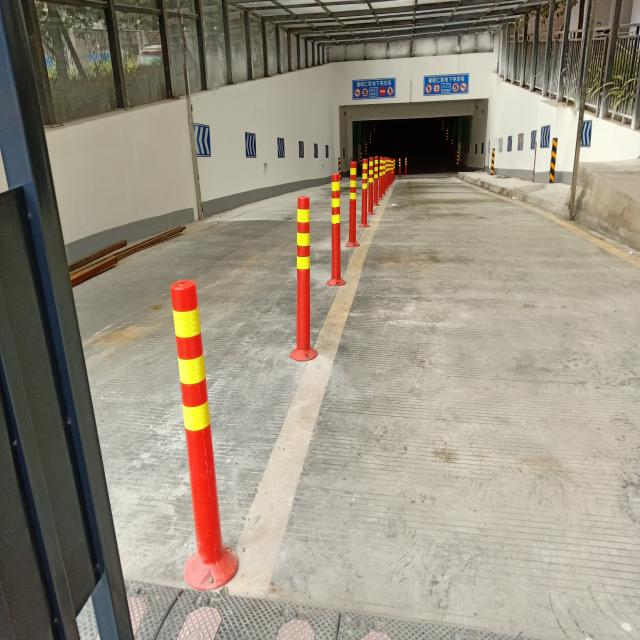warning_column: (168, 280, 240, 588), (285, 196, 317, 360), (325, 174, 345, 286), (344, 162, 360, 247), (358, 157, 370, 227), (367, 157, 375, 215), (373, 156, 380, 205), (378, 157, 384, 199), (398, 156, 402, 176), (404, 156, 407, 174), (393, 158, 395, 180)
